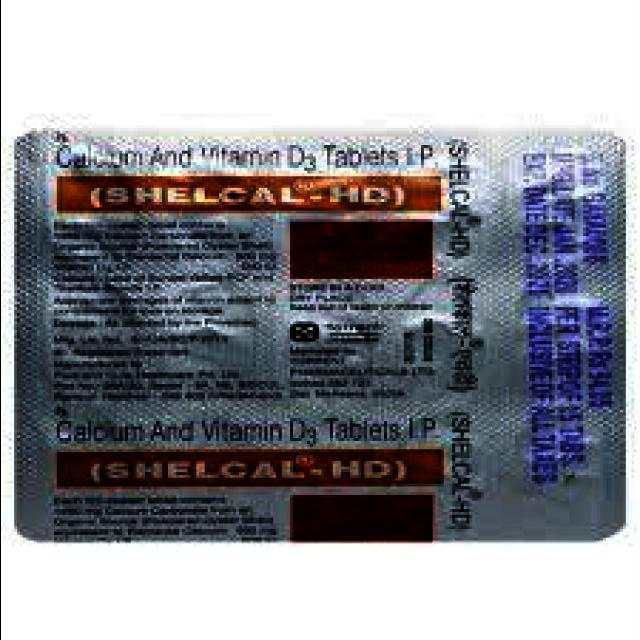authentic: (4, 108, 636, 542)
